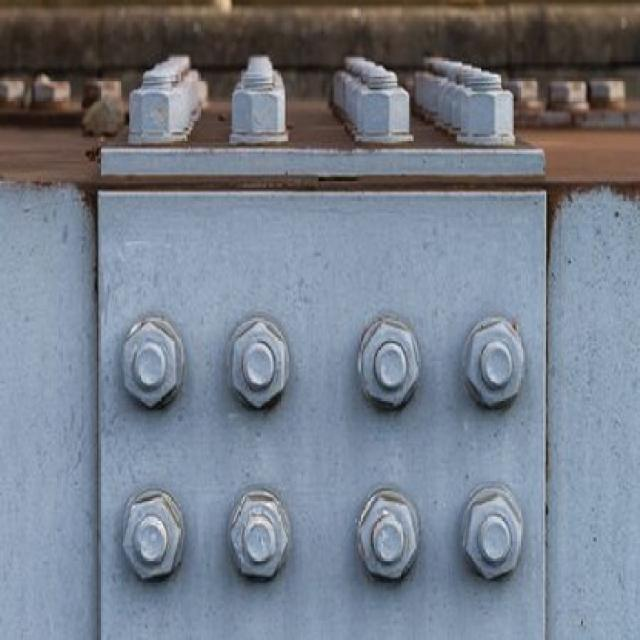Regular bolt: (216, 314, 298, 412), (354, 489, 429, 583), (467, 317, 532, 417), (120, 322, 192, 412), (351, 322, 425, 409), (120, 493, 189, 581), (462, 487, 529, 577), (227, 493, 296, 577)
